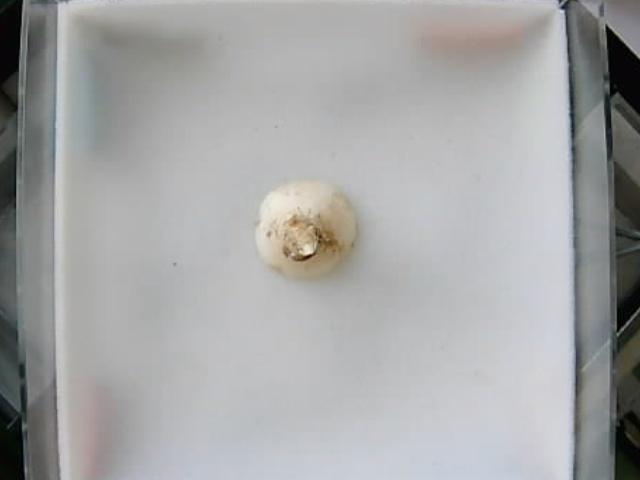Mooli: (256, 180, 361, 279)
